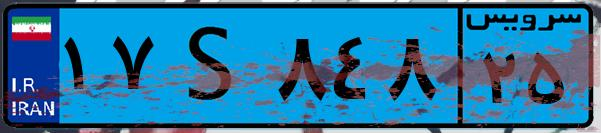1: (57, 26, 110, 100)
2: (475, 38, 525, 113)
4: (330, 28, 385, 110)
5: (525, 38, 570, 115)
7: (110, 28, 158, 98)
8: (270, 28, 330, 110), (385, 28, 445, 110)
S: (158, 12, 270, 120)
